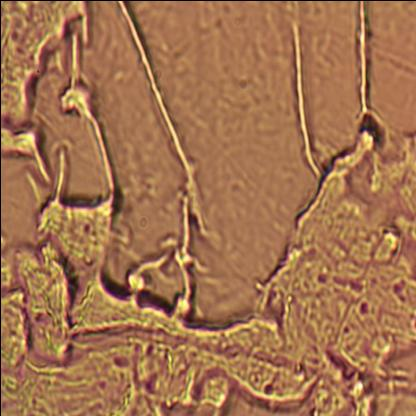Stage I: (8, 155, 416, 416), (0, 0, 100, 156)
